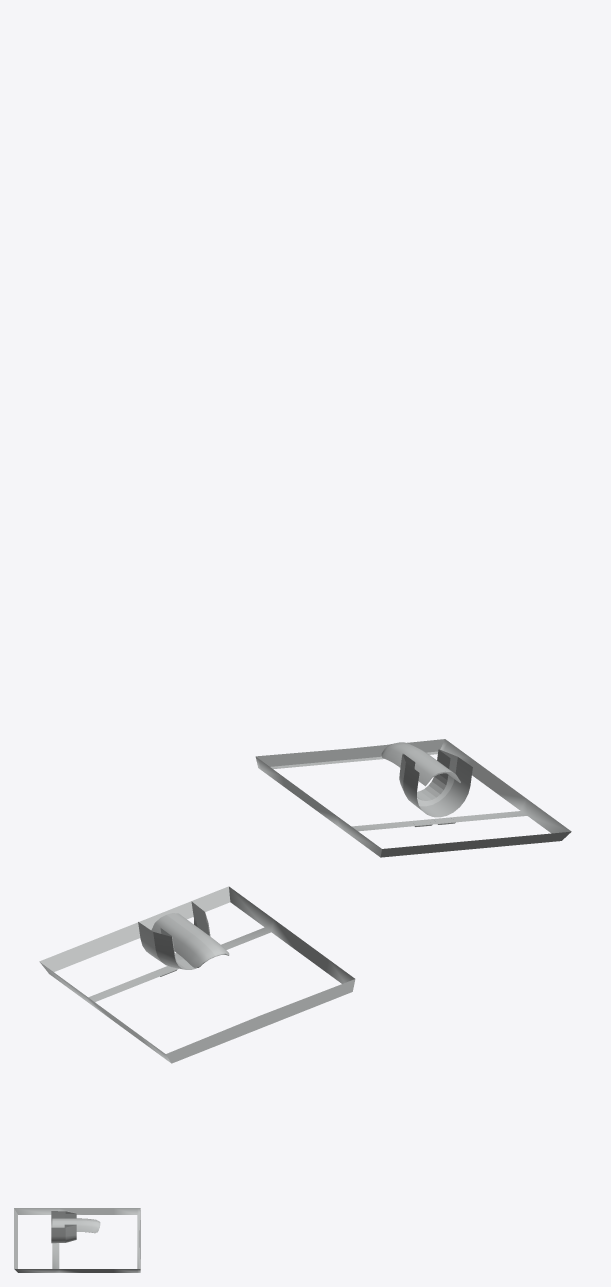
Rendered from MeshFridgeDoorE2_1_GeomSubset_2.obj.
3 views of the same model, one above another, from view 1: azimuth 30°, elevation 25°; view 2: azimuth 210°, elevation 25°; view 3: azimuth 270°, elevation 25° (orthographic). The views are drawn at different scales.
Visible parts, largest first — view 1: MeshFridgeDoorE2_1_GeomSubset_2; view 2: MeshFridgeDoorE2_1_GeomSubset_2; view 3: MeshFridgeDoorE2_1_GeomSubset_2.
Part boxes in pixels (box(x1,y1,x2,y2)): MeshFridgeDoorE2_1_GeomSubset_2: box(255, 739, 571, 857); MeshFridgeDoorE2_1_GeomSubset_2: box(39, 886, 355, 1063); MeshFridgeDoorE2_1_GeomSubset_2: box(14, 1208, 140, 1272).
Size of the model in its own units: 0.2991 by 0.4632 by 1.26.
